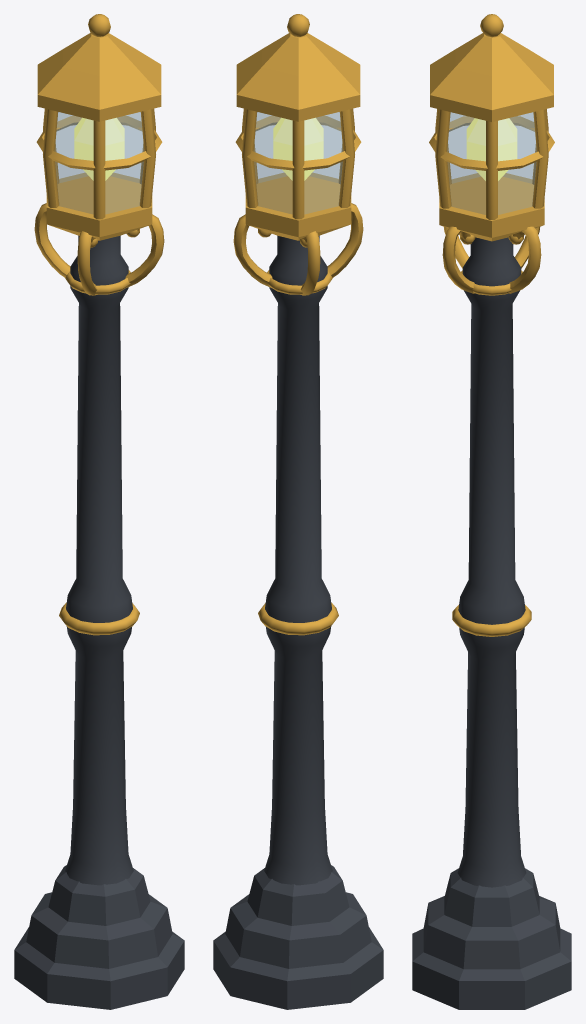
Rendered from prop_street_lamp.glb.
The picture shows the model from 3 angles, left to right: view 1: azimuth 30°, elevation 25°; view 2: azimuth 150°, elevation 25°; view 3: azimuth 270°, elevation 25°; orthographic projection.
Parts seen in each view (by area): view 1: StreetLamp; view 2: StreetLamp; view 3: StreetLamp.
Part boxes in pixels (x1=…): StreetLamp: x1=14, y1=14, x2=184, y2=1009; StreetLamp: x1=213, y1=14, x2=383, y2=1009; StreetLamp: x1=412, y1=14, x2=571, y2=1009.
Size of what is drawn, in the model's own units: 0.6 by 4 by 0.6.
